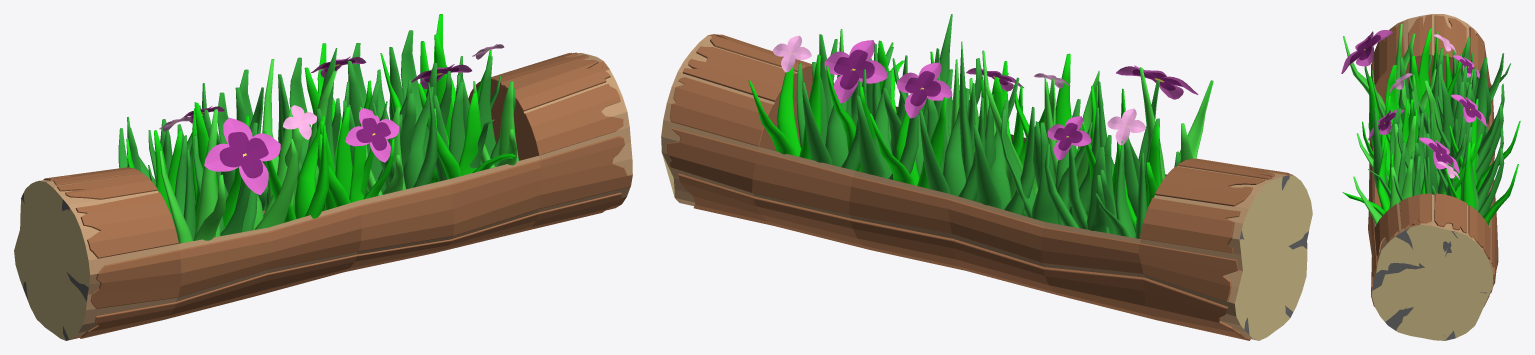
Rendered from WoodTrunk_Dec.fbx.
The picture shows the model from 3 angles, left to right: view 1: azimuth 30°, elevation 25°; view 2: azimuth 150°, elevation 25°; view 3: azimuth 270°, elevation 25°; orthographic projection. The views are drawn at different scales.
Visible parts, largest first — view 1: WoodTrunk_Dec; view 2: WoodTrunk_Dec; view 3: WoodTrunk_Dec.
Part boxes in pixels (<box>): WoodTrunk_Dec: <box>14,14,632,340</box>; WoodTrunk_Dec: <box>661,14,1312,340</box>; WoodTrunk_Dec: <box>1341,14,1520,340</box>.
Bounding box in the file's own units: 5.41 × 2.02 × 1.94.
